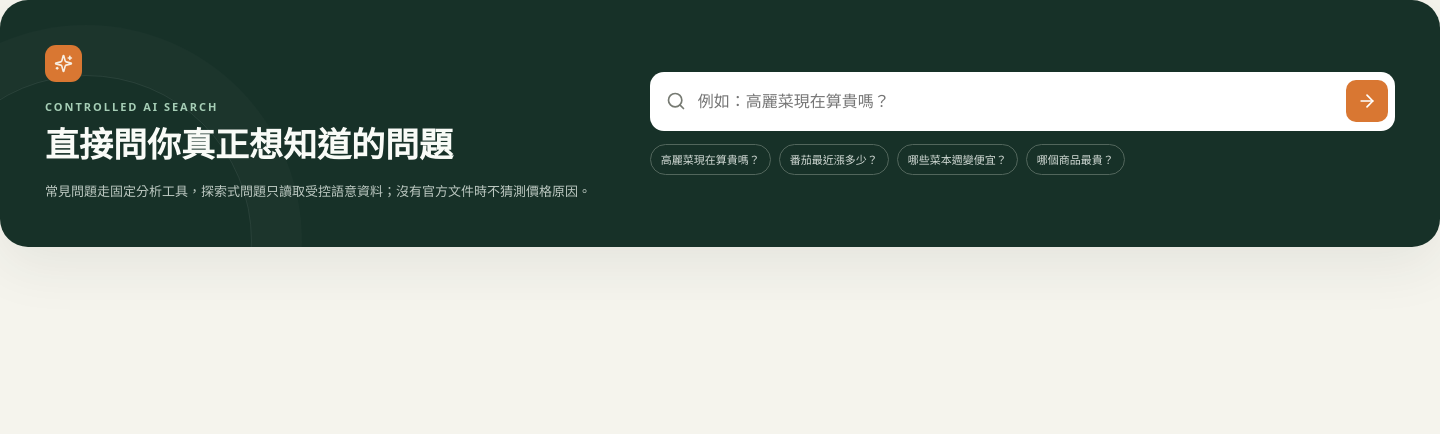
Test: AiSearch Phase 5 › renders a sourced answer with freshness and wholesale unit
The image size is (1440, 434).
Type "高麗菜現在算貴嗎？" into the field named "輸入價格問題" at (1016, 101), box [696,79,1336,124]
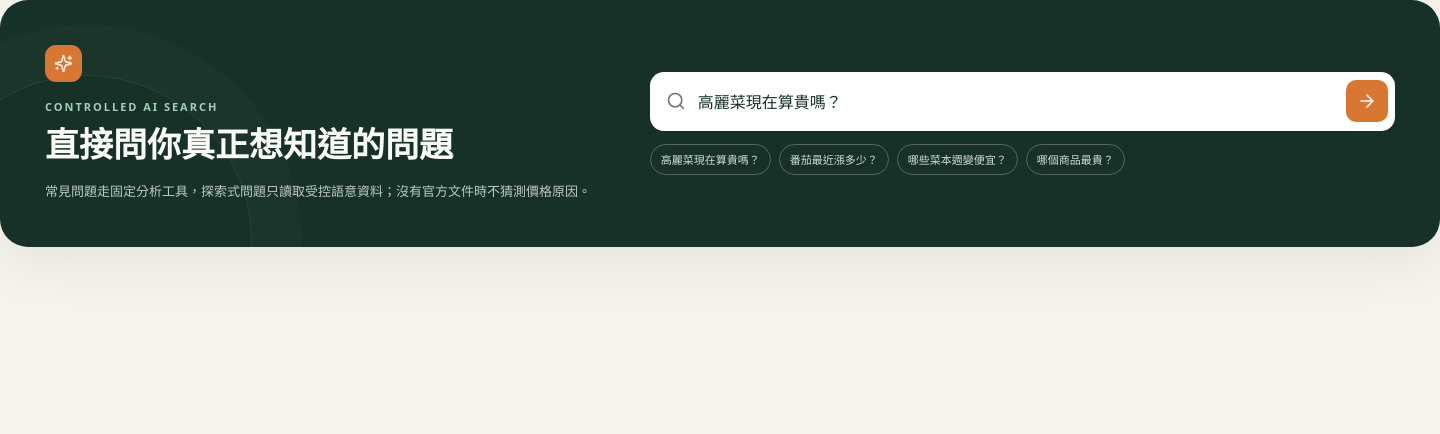
Click the button named "送出問題" at (1367, 101), box [1346,80,1388,122]
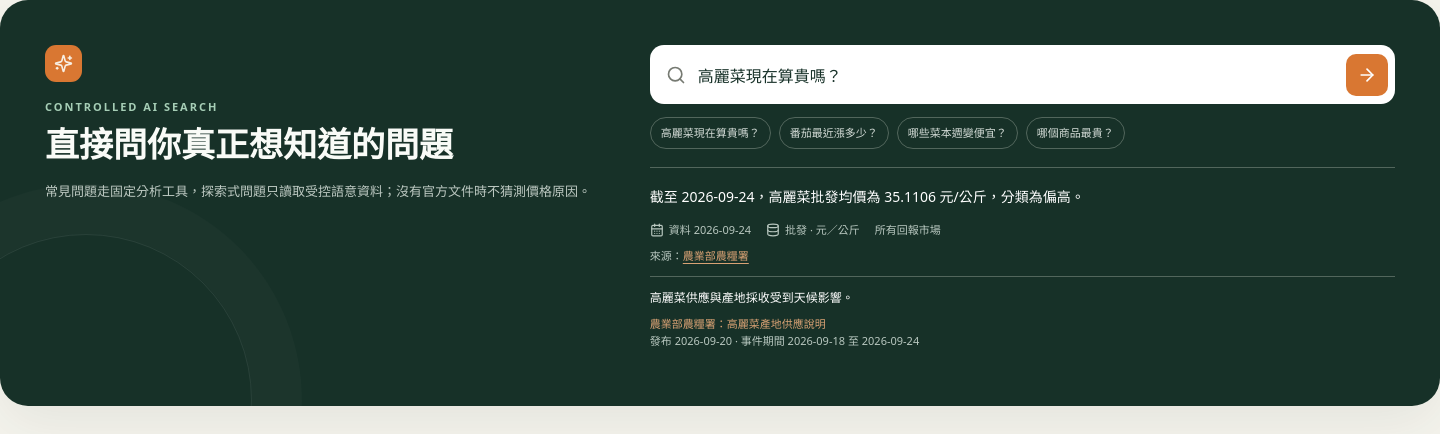
Expected: the text "截至 2026-09-24，高麗菜批發均價為 35.1106 元/公斤，分類為偏高。" is shown, [650,187,1085,206]
Expected: the text "資料 2026-09-24" is shown, [650,221,751,239]
Expected: the text "批發 · 元／公斤" is shown, [766,221,860,239]
